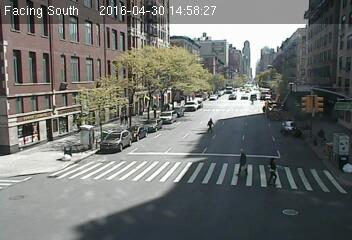neg: (6, 79, 43, 129), (323, 124, 348, 157), (79, 123, 103, 154), (147, 54, 171, 85), (304, 88, 322, 112), (55, 142, 73, 166), (220, 86, 235, 107), (148, 149, 163, 169), (180, 100, 192, 116), (281, 202, 292, 216), (251, 93, 261, 106)
pos: (264, 160, 286, 189), (235, 147, 255, 175), (204, 117, 217, 134), (124, 113, 131, 122), (118, 115, 124, 124)
